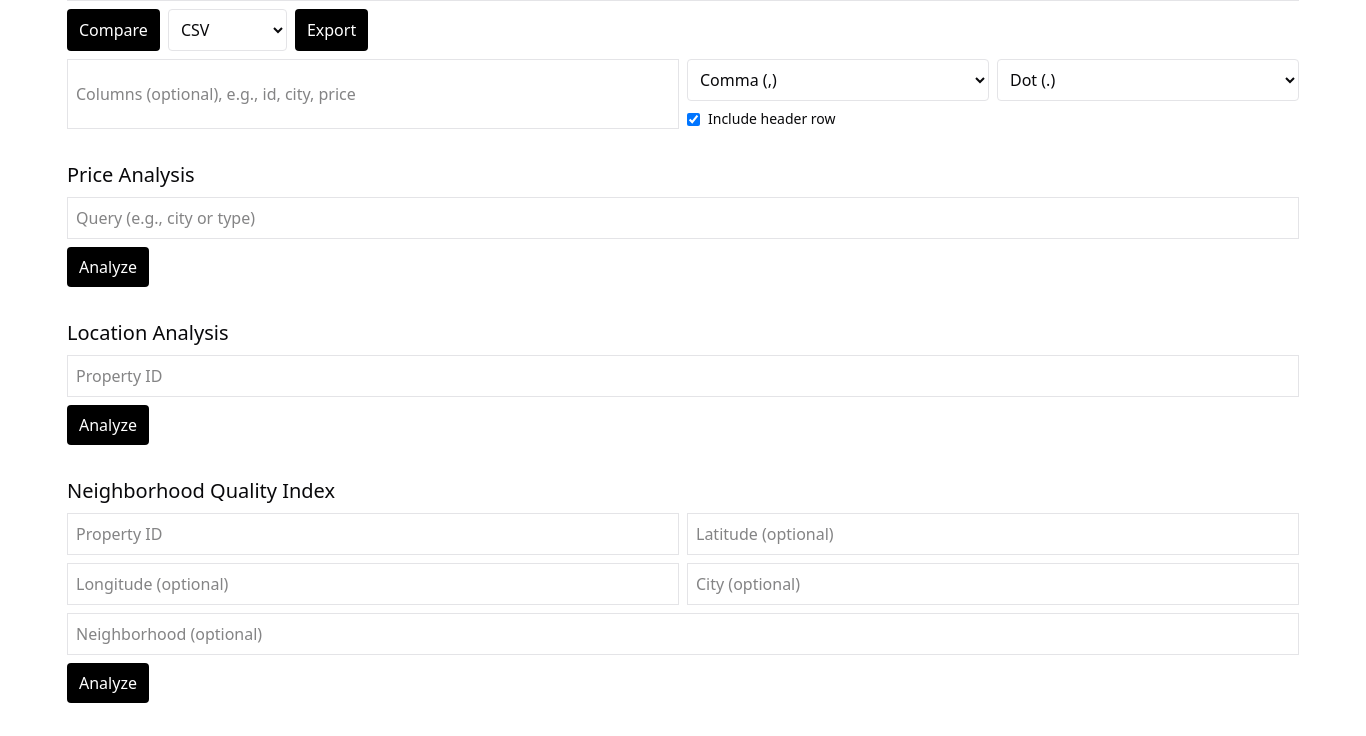
ToolsPage › LocationAnalysisSection › analyzes location and shows results
(page scrolled)
Type "prop-123" into the field with placeholder "Property ID" below "Location Analysis" at (683, 376), box [67,355,1299,397]
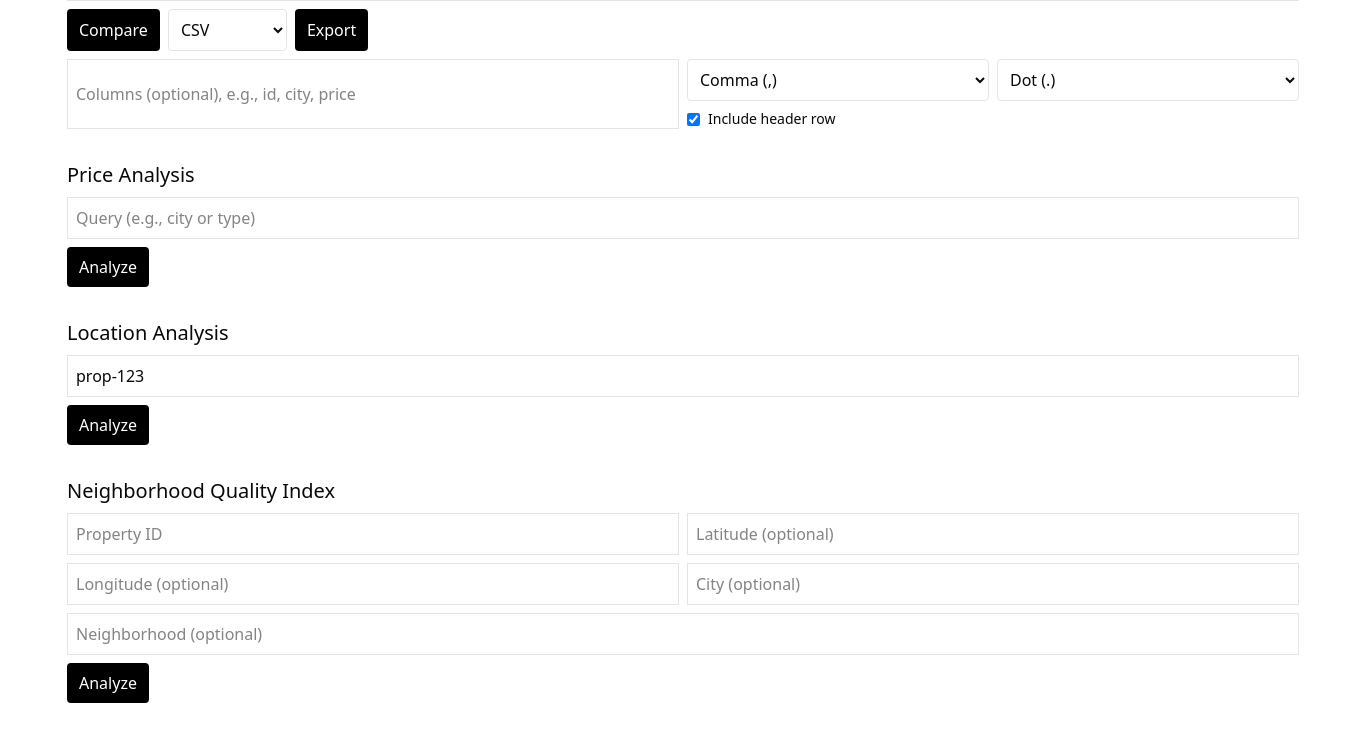
Click the button "Analyze" below "Location Analysis" at (108, 425), box [67,405,149,445]
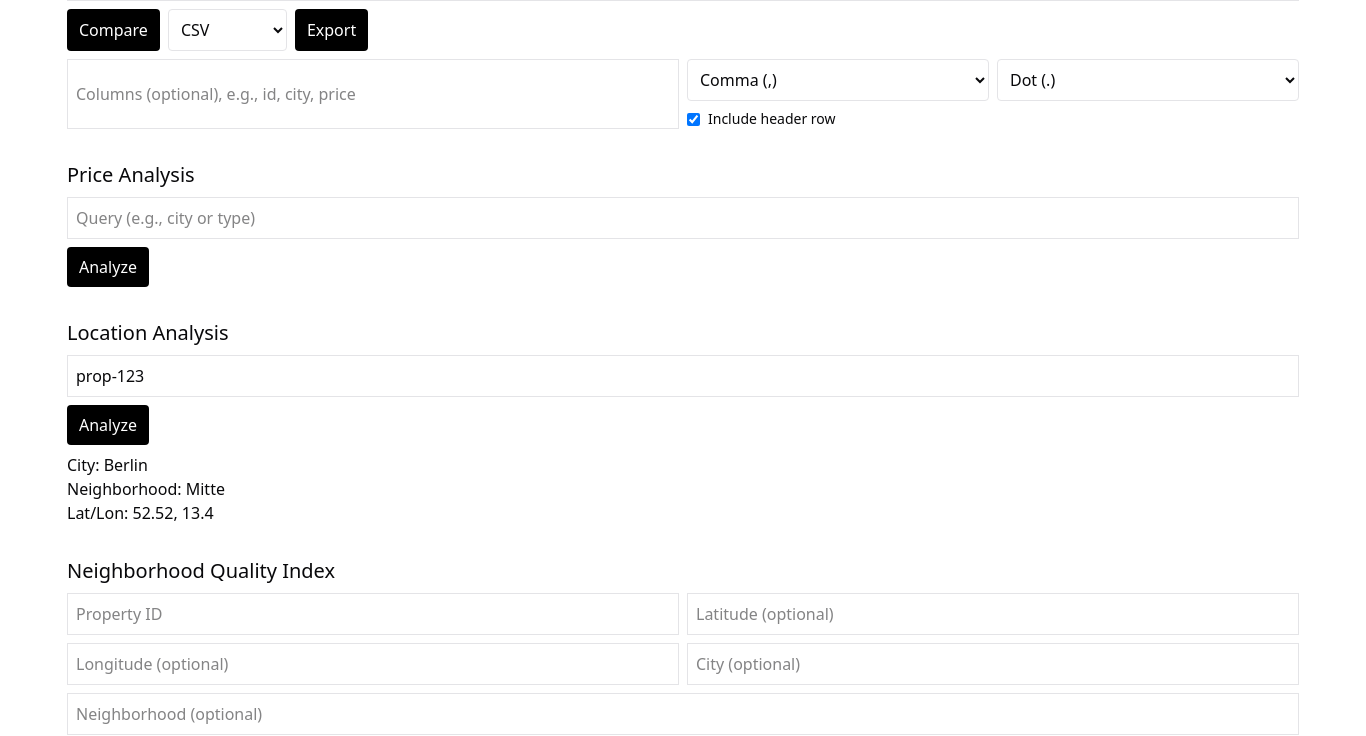
expect the text "Location Analysis" shows "Berlin": met, box [104,454,148,476]
expect the text "Location Analysis" shows "Mitte": met, box [186,478,225,500]
